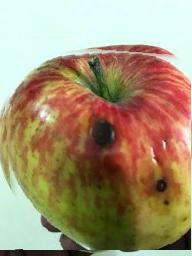Apple Semifresh: (0, 43, 191, 251)
